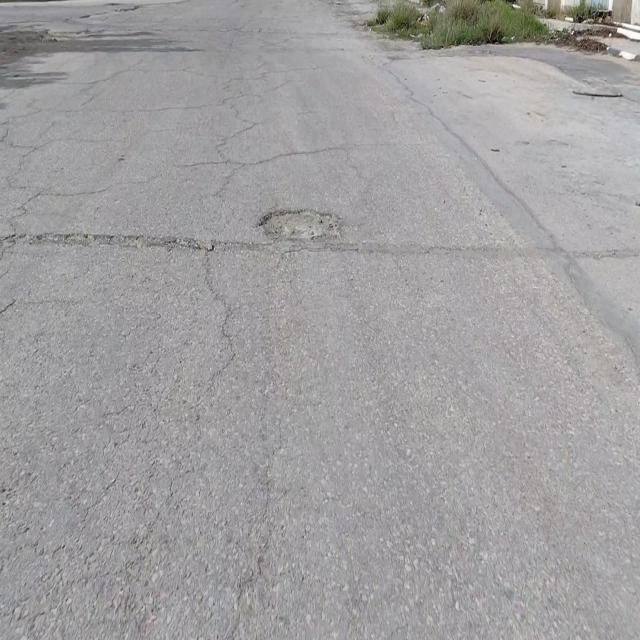Potholes: (256, 205, 340, 241)
